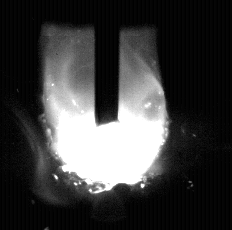arame: (95, 0, 120, 128)
poca: (50, 0, 168, 230)
